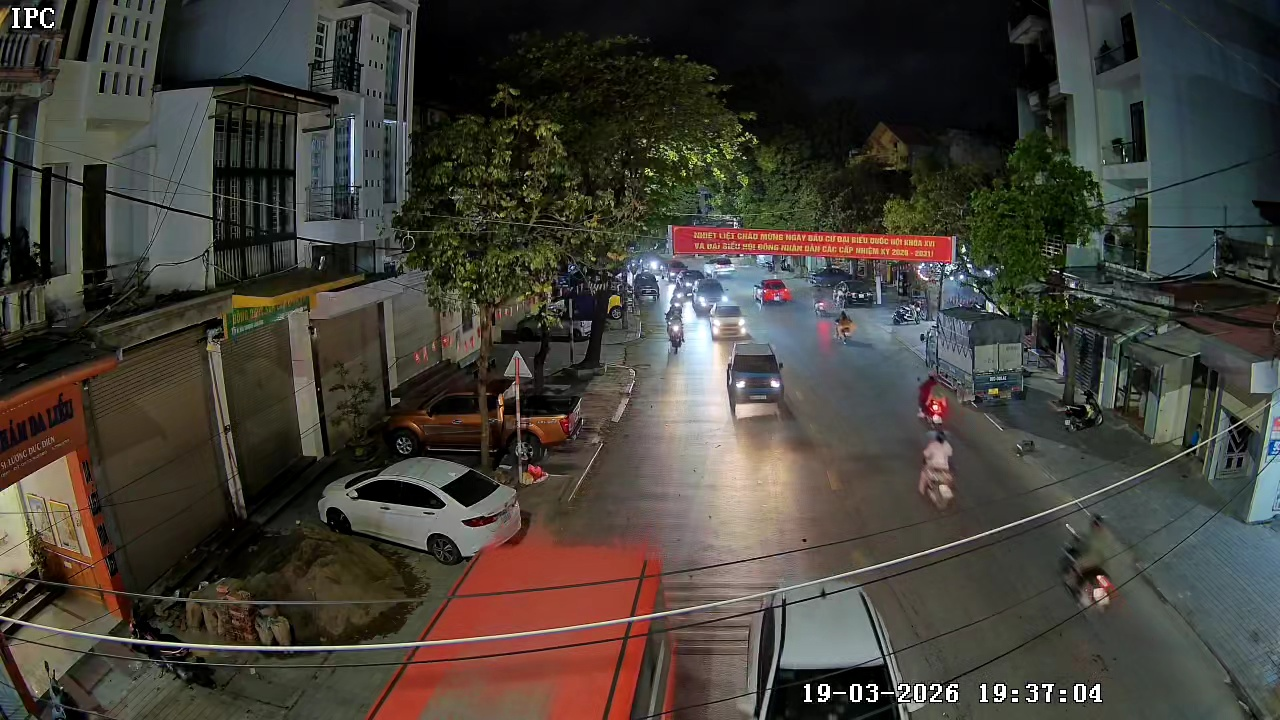car: (318, 454, 532, 564), (746, 579, 913, 719), (725, 339, 786, 415), (711, 300, 748, 338), (755, 275, 792, 305)
motorbike: (1059, 512, 1119, 618), (916, 426, 959, 513), (916, 370, 948, 431), (665, 311, 686, 352)
truck: (922, 313, 1030, 410)
